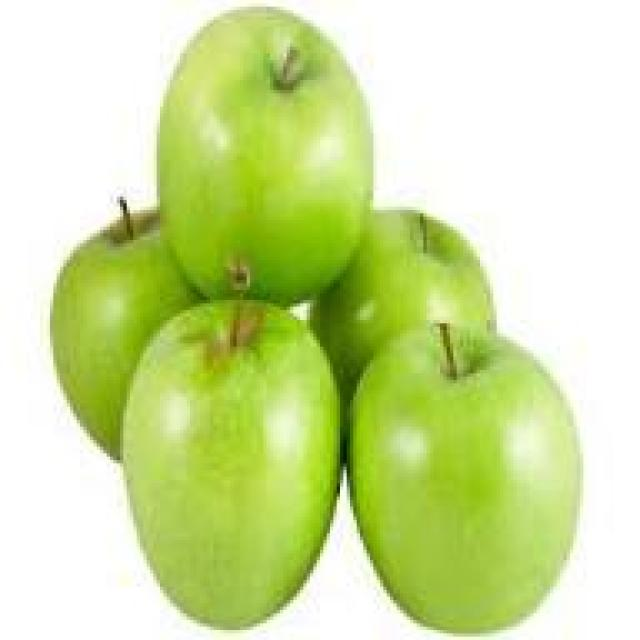apple: (353, 320, 587, 633), (126, 323, 336, 630), (160, 3, 363, 300), (317, 200, 520, 437), (47, 183, 220, 457)
